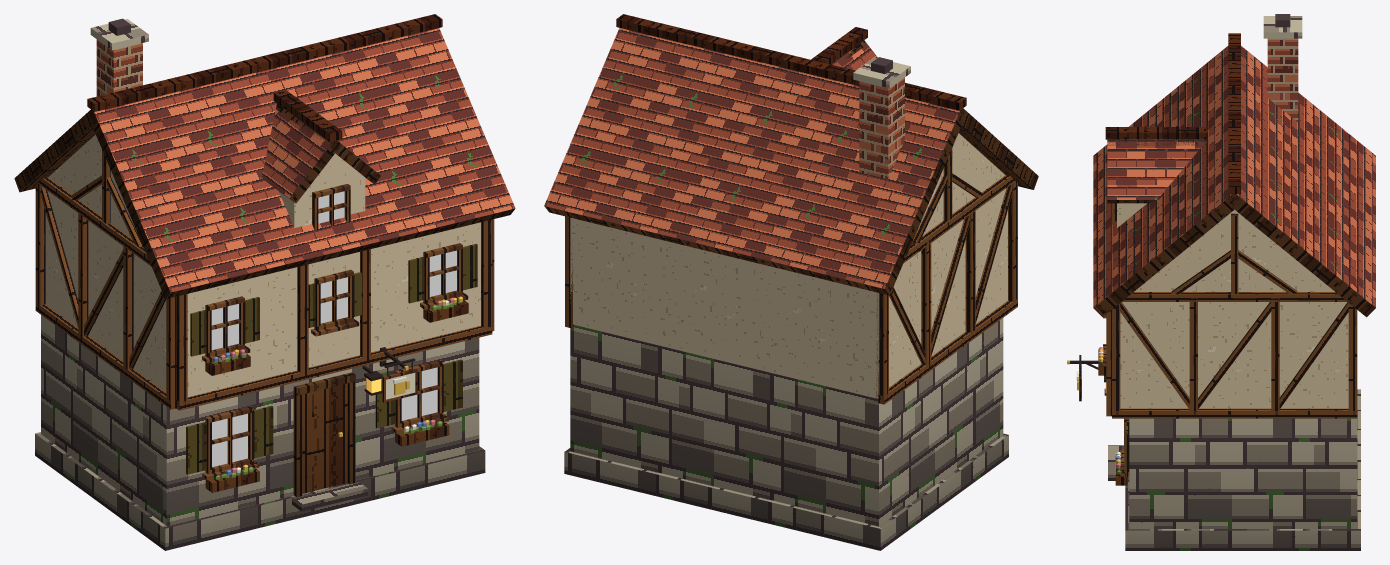
File: inn.glb
The picture shows the model from 3 angles, left to right: view 1: azimuth 30°, elevation 25°; view 2: azimuth 150°, elevation 25°; view 3: azimuth 270°, elevation 25°; orthographic projection. The views are drawn at different scales.
Parts seen in each view (by area): view 1: inn; view 2: inn; view 3: inn.
Boxes of the visible parts, x1=… form: inn: x1=14, y1=14, x2=515, y2=550; inn: x1=544, y1=14, x2=1038, y2=550; inn: x1=1067, y1=14, x2=1375, y2=550.
Bounding box in the file's own units: 7.34 × 9.15 × 6.24.
Materials: 8 (5 with a texture image).
